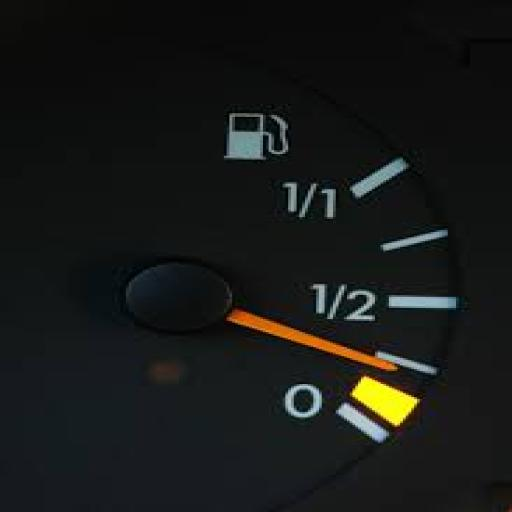empty: (281, 380, 326, 425)
fuel_icon: (216, 102, 295, 166)
full: (272, 179, 346, 223)
guage_area: (92, 58, 474, 495)
needle_center: (118, 259, 253, 338)
needle_tip: (348, 350, 402, 376)
